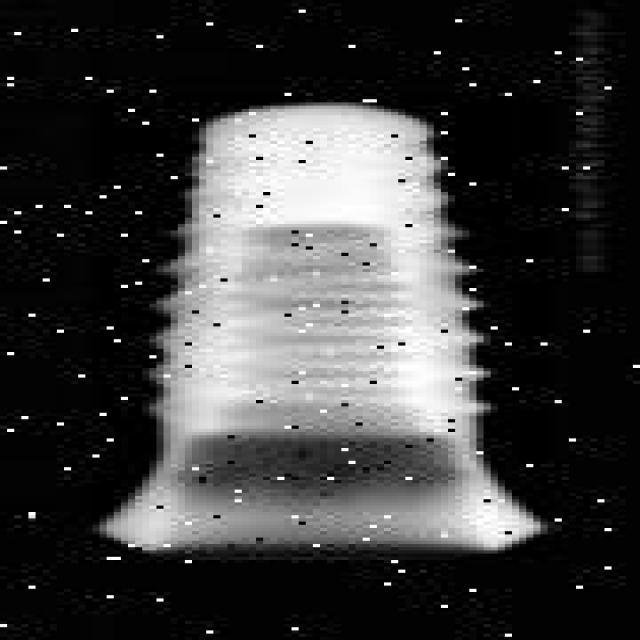Titan Implant Implant: (92, 96, 548, 557)
